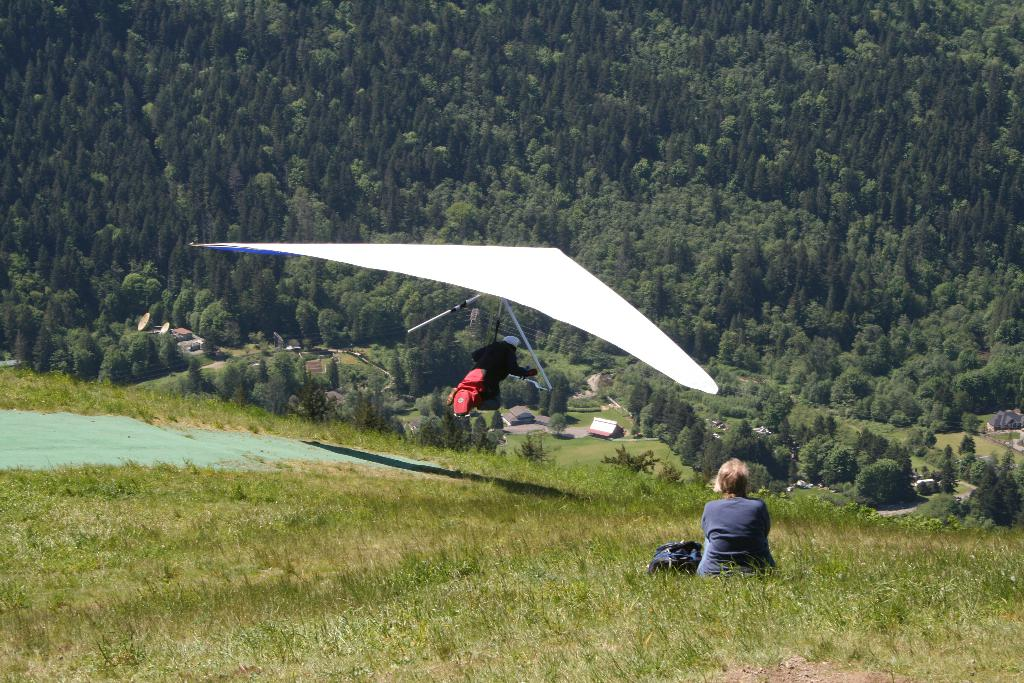Tree: (0, 0, 1024, 522)
